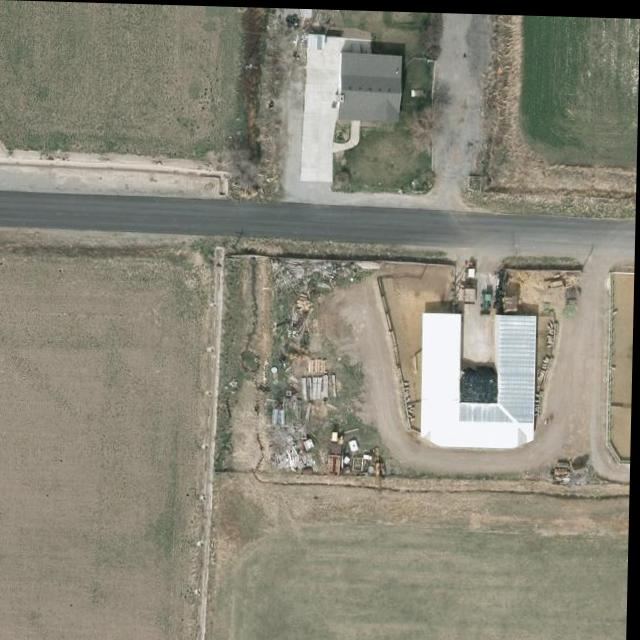vehicle: (561, 282, 588, 318)
